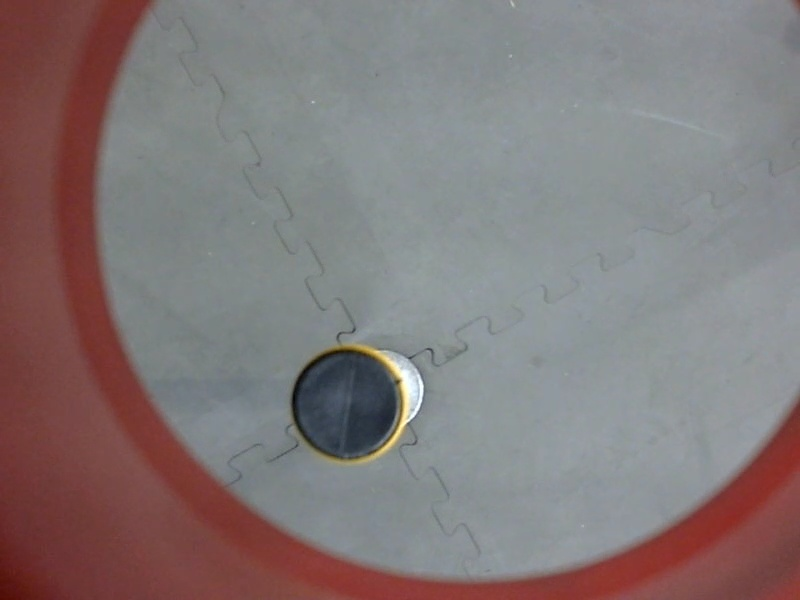tip: (285, 337, 411, 475)
